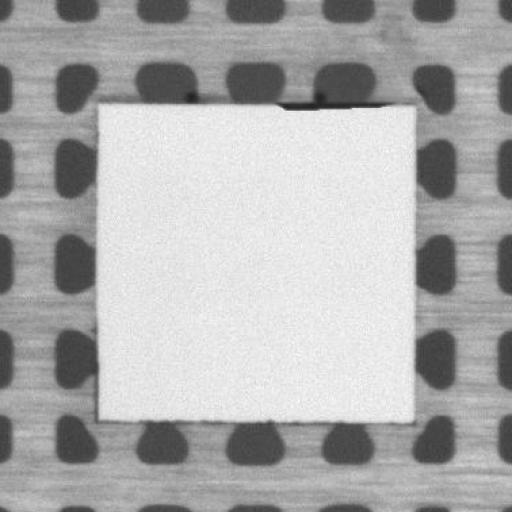DIE_BROKEN: (270, 96, 392, 112)
